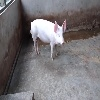heo: (28, 16, 69, 62)
